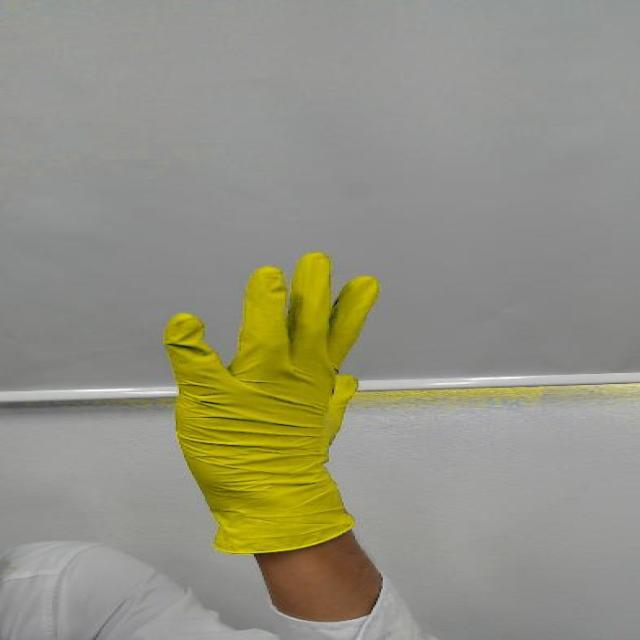gloved_hand: (121, 249, 422, 500)
